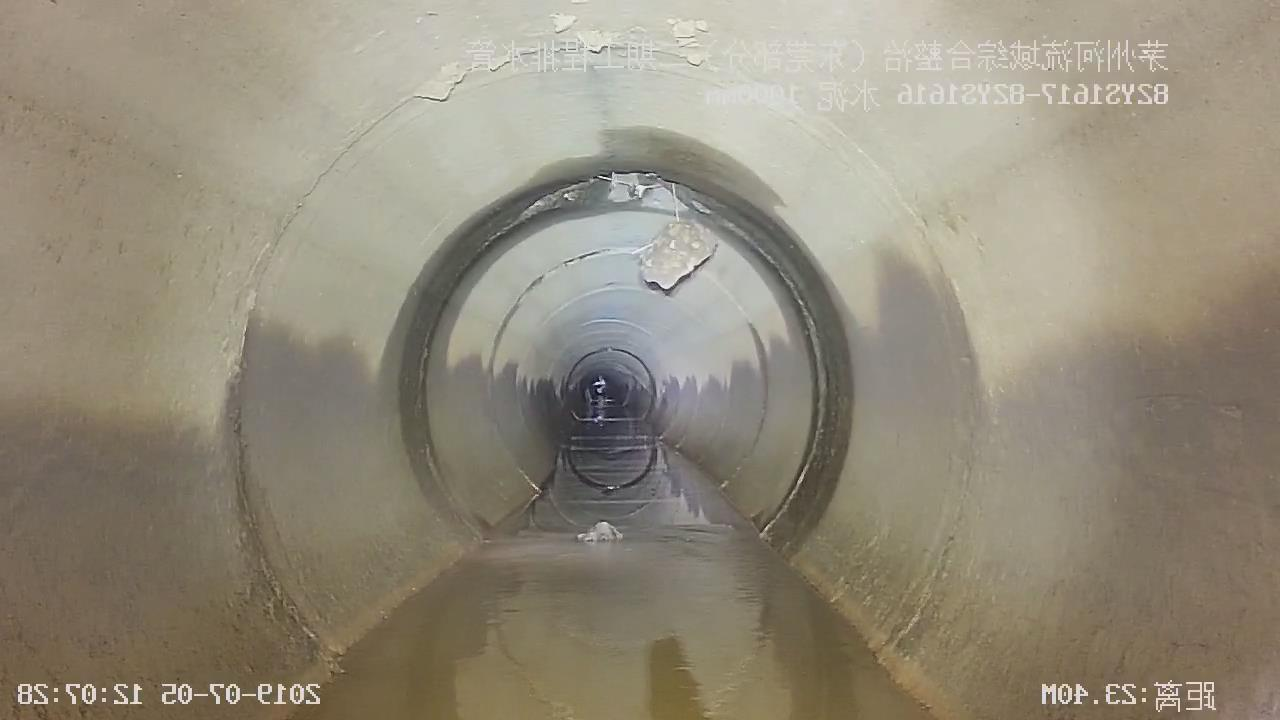JKCL: (492, 172, 721, 294)
